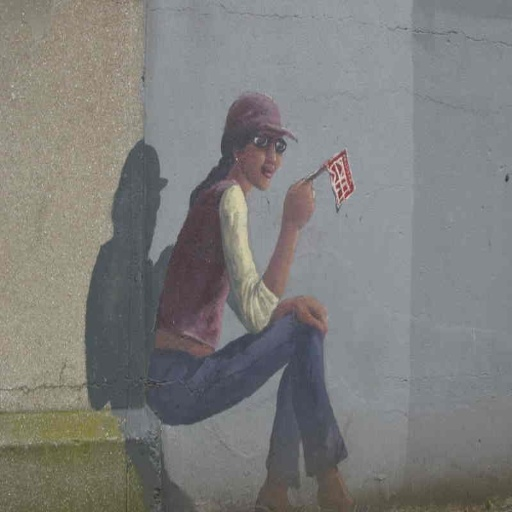hand: (273, 296, 327, 349), (282, 172, 316, 231)
